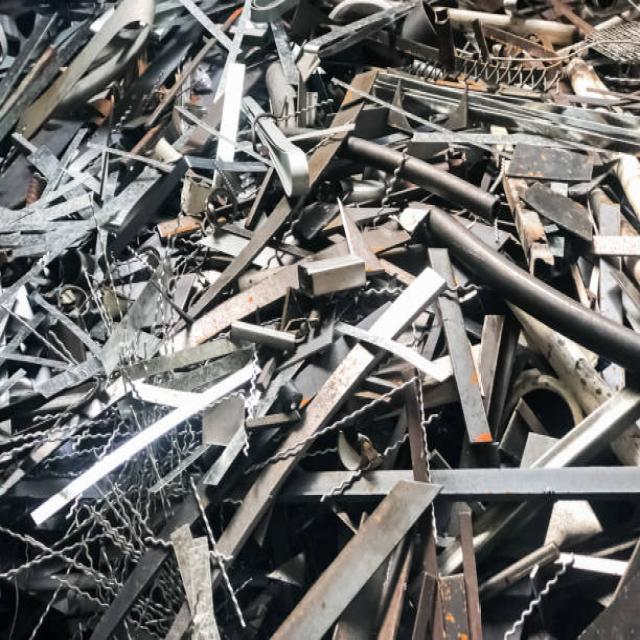metal: (262, 149, 632, 615), (11, 38, 226, 325)
